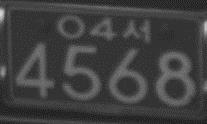0: (56, 13, 85, 39)
4: (15, 42, 54, 99), (89, 13, 118, 43)
5: (61, 44, 102, 102)
6: (107, 46, 149, 104)
8: (154, 49, 197, 108)
서: (122, 17, 151, 44)
